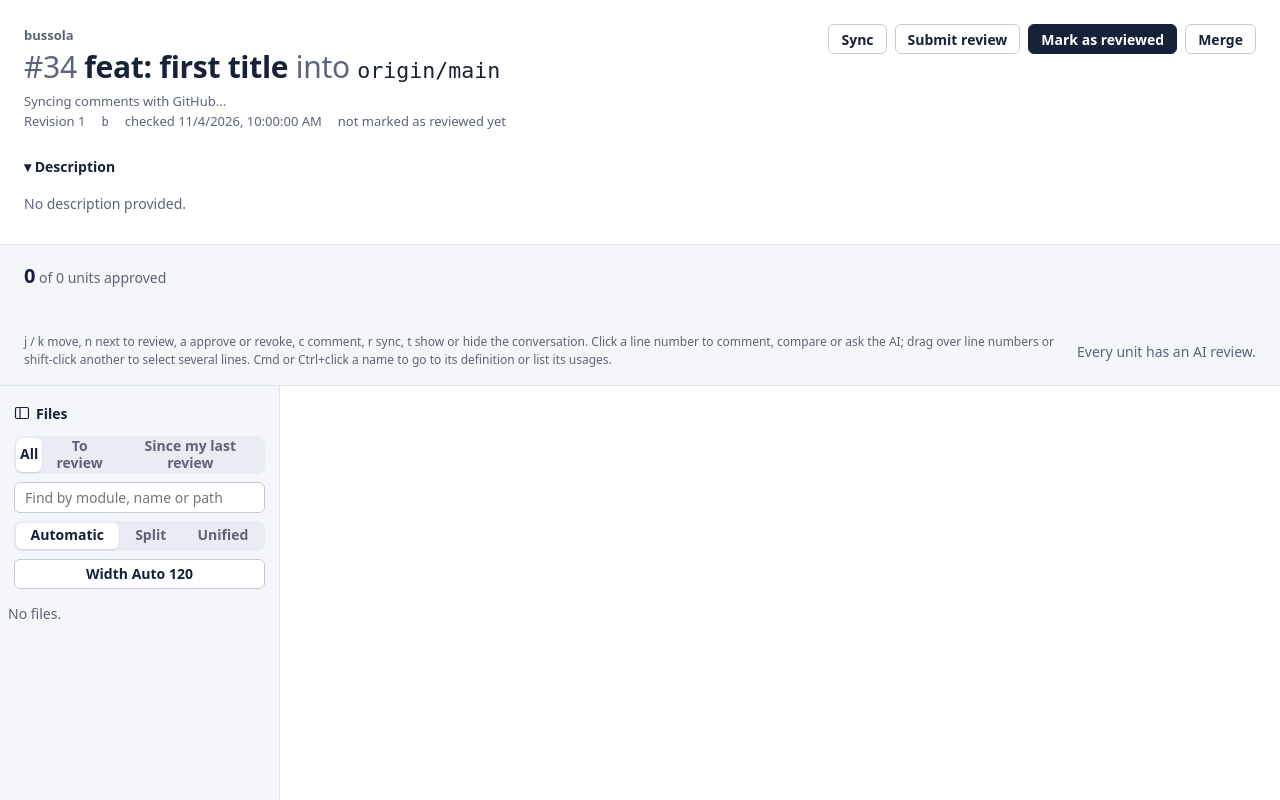
Test: ReviewPage merge › opens the merge options in a dialog and shows the result in the header after merging
Click the button "Merge" at (1221, 39), box [1185,24,1256,54]
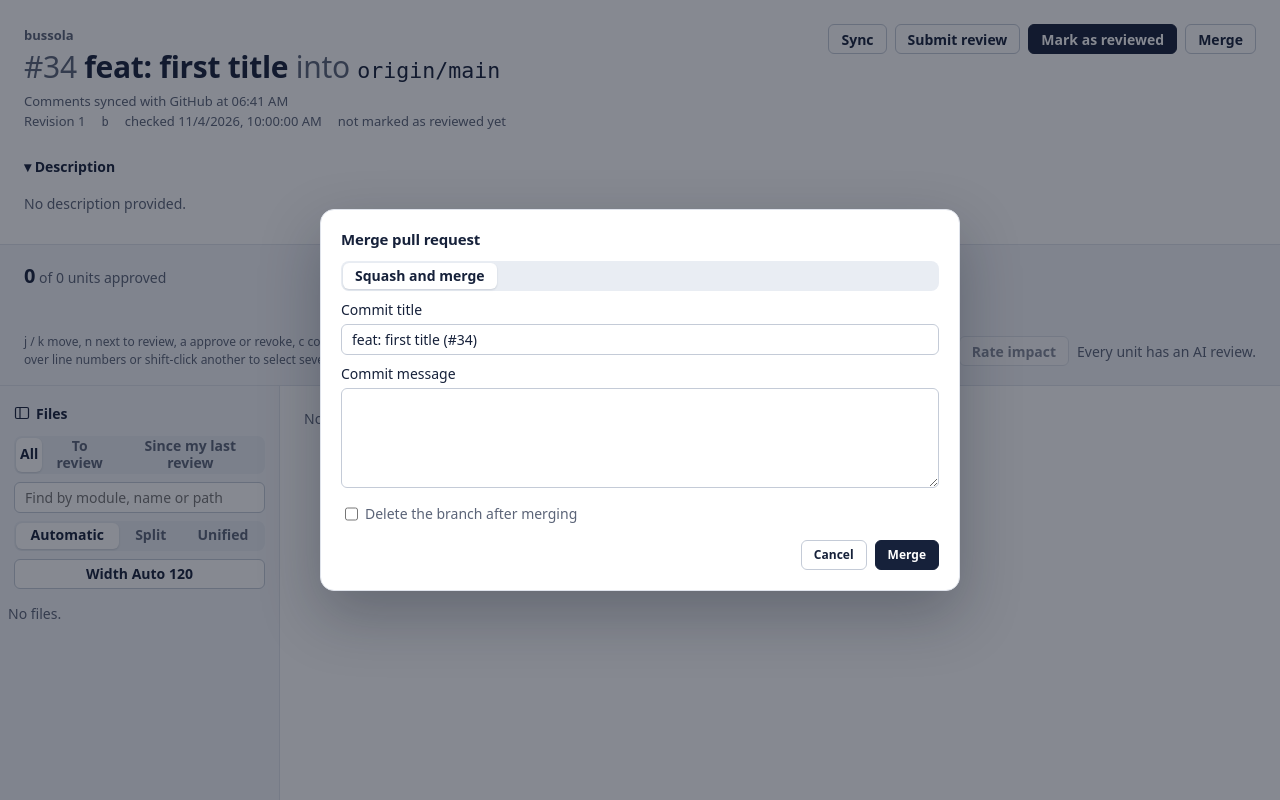
Check: the field labelled "Commit title" holds "feat: first title (#34)", box [341,324,939,355]
Click the button "Merge" at (907, 555), box [875,540,939,570]
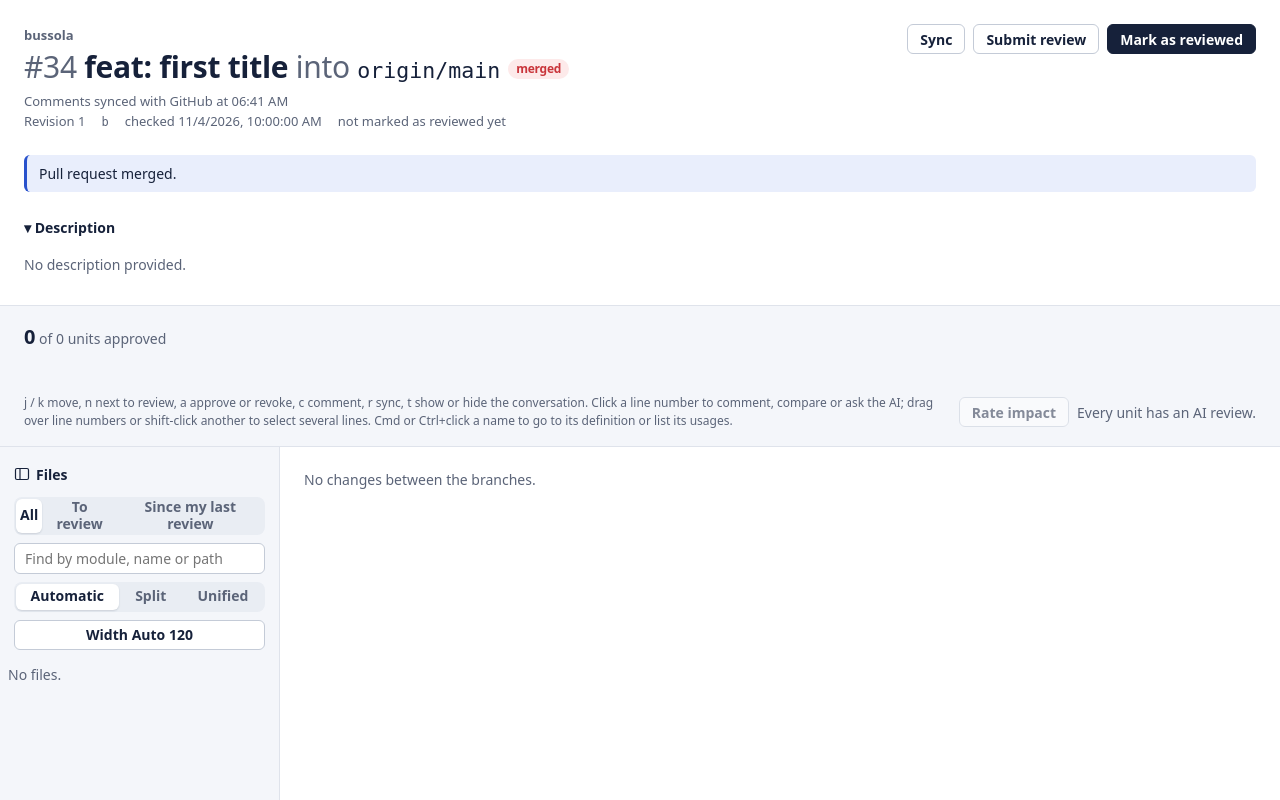
Check: the text "Pull request merged." is shown, box [24,155,1256,192]
Check: the dialog is gone
